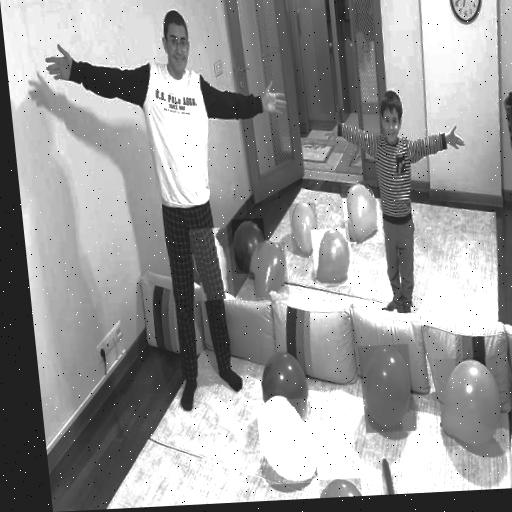balloon: (434, 356, 506, 447), (255, 398, 317, 485), (357, 344, 417, 433), (259, 346, 311, 414), (188, 228, 234, 302), (341, 180, 383, 244), (311, 228, 355, 287), (250, 242, 290, 302), (231, 218, 269, 275), (288, 202, 320, 255), (318, 477, 362, 498)
